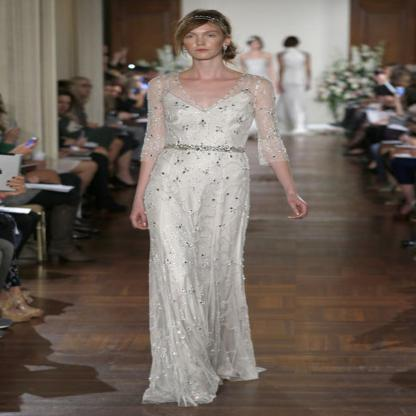face: (183, 26, 225, 60), (54, 99, 71, 114), (77, 82, 92, 96), (109, 89, 122, 99), (251, 42, 261, 50)
